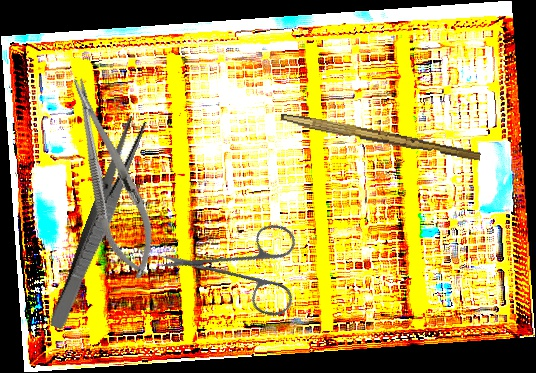Dressing Forceps: (47, 114, 149, 333)
Iris Scissors: (156, 182, 328, 354)
Needle Holder: (54, 70, 168, 286)
Scalpel Handle: (279, 112, 482, 163)
